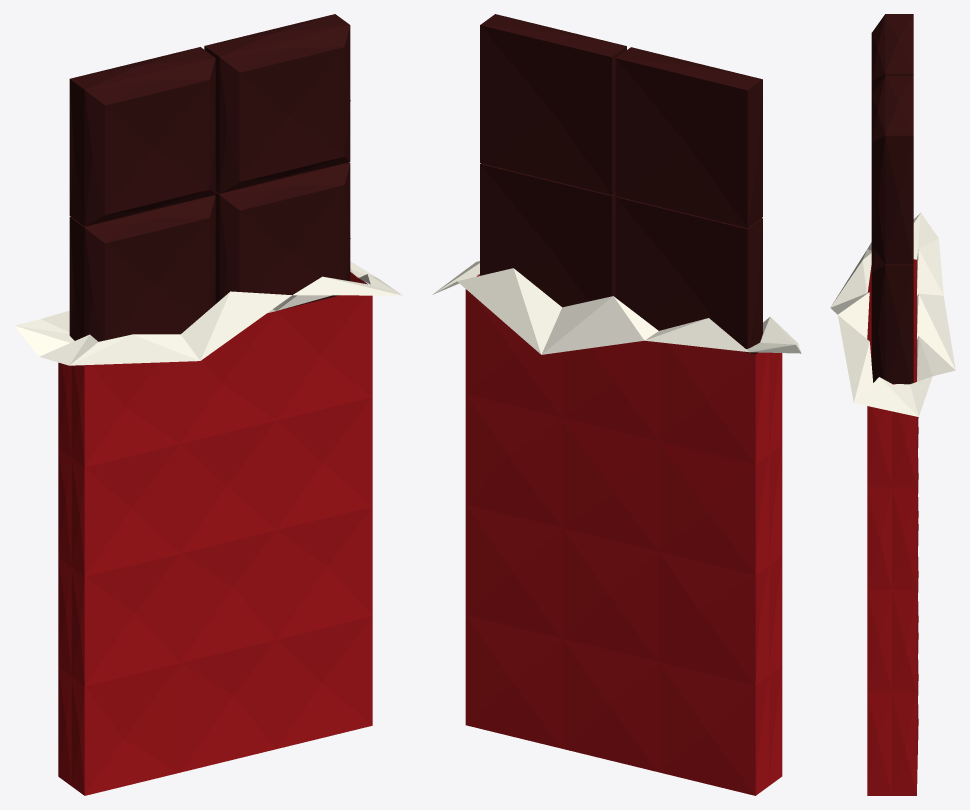
The model's file is chocolate_bar.fbx.
3 views of the same model, side by side, from view 1: azimuth 30°, elevation 25°; view 2: azimuth 150°, elevation 25°; view 3: azimuth 270°, elevation 25° (orthographic). The views are drawn at different scales.
Visible parts, largest first — view 1: wrapping_paper, chocolate_bar, inside_wrapping_paper; view 2: wrapping_paper, chocolate_bar, inside_wrapping_paper; view 3: wrapping_paper, chocolate_bar, inside_wrapping_paper.
Part boxes in pixels (<box>): wrapping_paper: <box>58,272,372,795</box>; chocolate_bar: <box>69,14,350,341</box>; inside_wrapping_paper: <box>14,261,402,365</box>; wrapping_paper: <box>465,274,782,795</box>; chocolate_bar: <box>480,14,762,354</box>; inside_wrapping_paper: <box>432,261,801,354</box>; wrapping_paper: <box>867,259,918,795</box>; chocolate_bar: <box>871,14,913,384</box>; inside_wrapping_paper: <box>830,213,955,416</box>.
Size of the model in its own units: 27.74 by 51.14 by 8.85.
